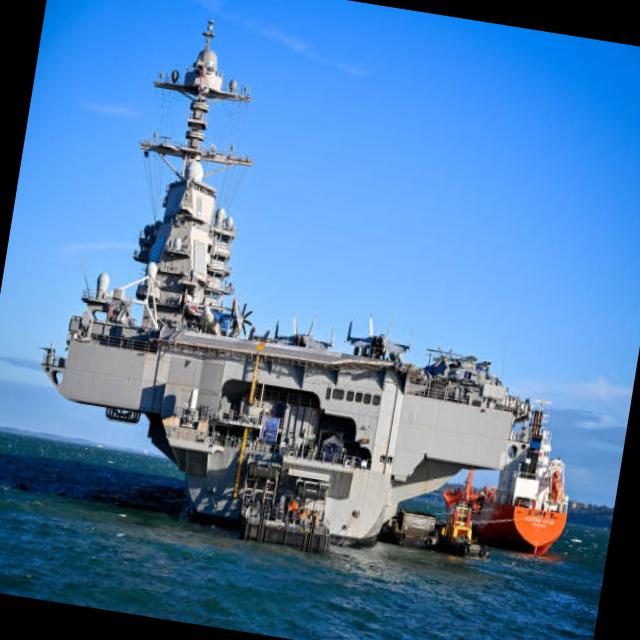Military: (42, 26, 516, 546)
